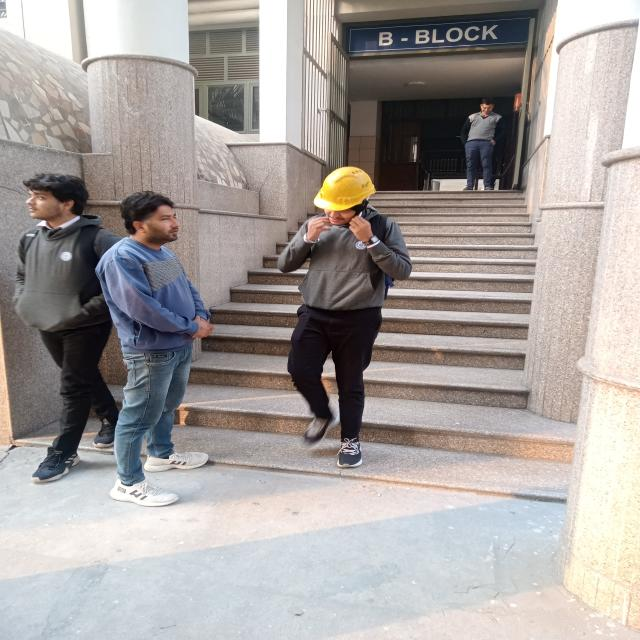no jacket: (278, 162, 394, 468)
unsafe: (97, 188, 214, 507), (5, 172, 114, 473), (458, 98, 504, 192)
